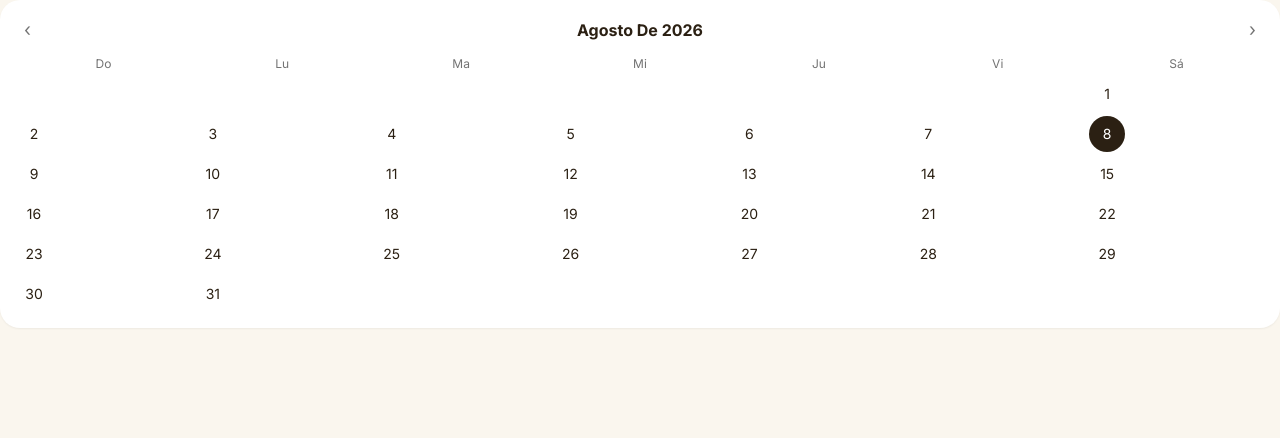
Test: MonthCalendar › marca "hoy" según la fecha de Ciudad de México, no la fecha UTC
This screenshot has width=1280, height=438.
# Si usara la fecha UTC (9), el día 8 no mostraría "HOY" al hacer clic.
What coordinates should you click on to do the following:
click the button "8"
I would click on:
 (1107, 134)
Its box is [1089,116,1125,152].
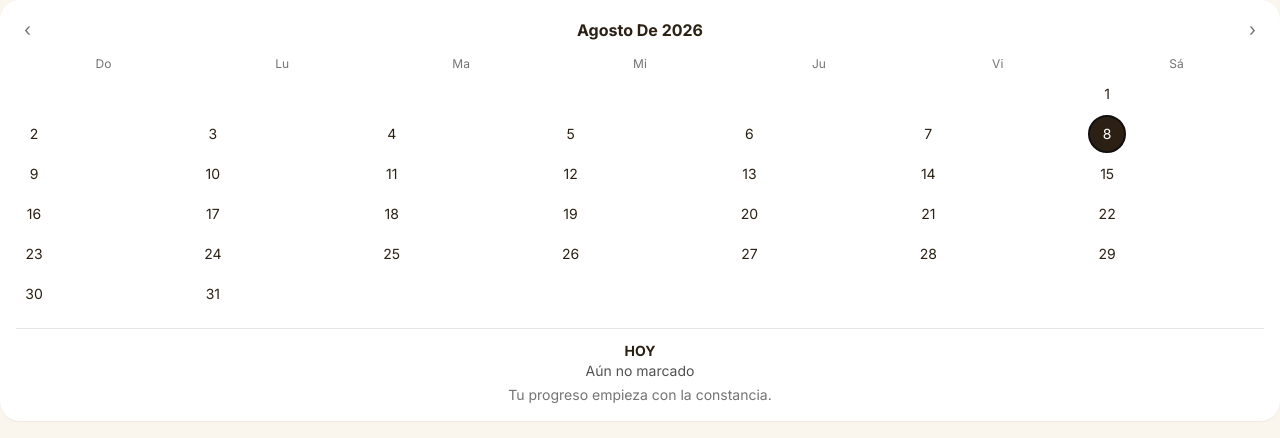
Now the text "HOY" is shown, box [624,342,655,359]
